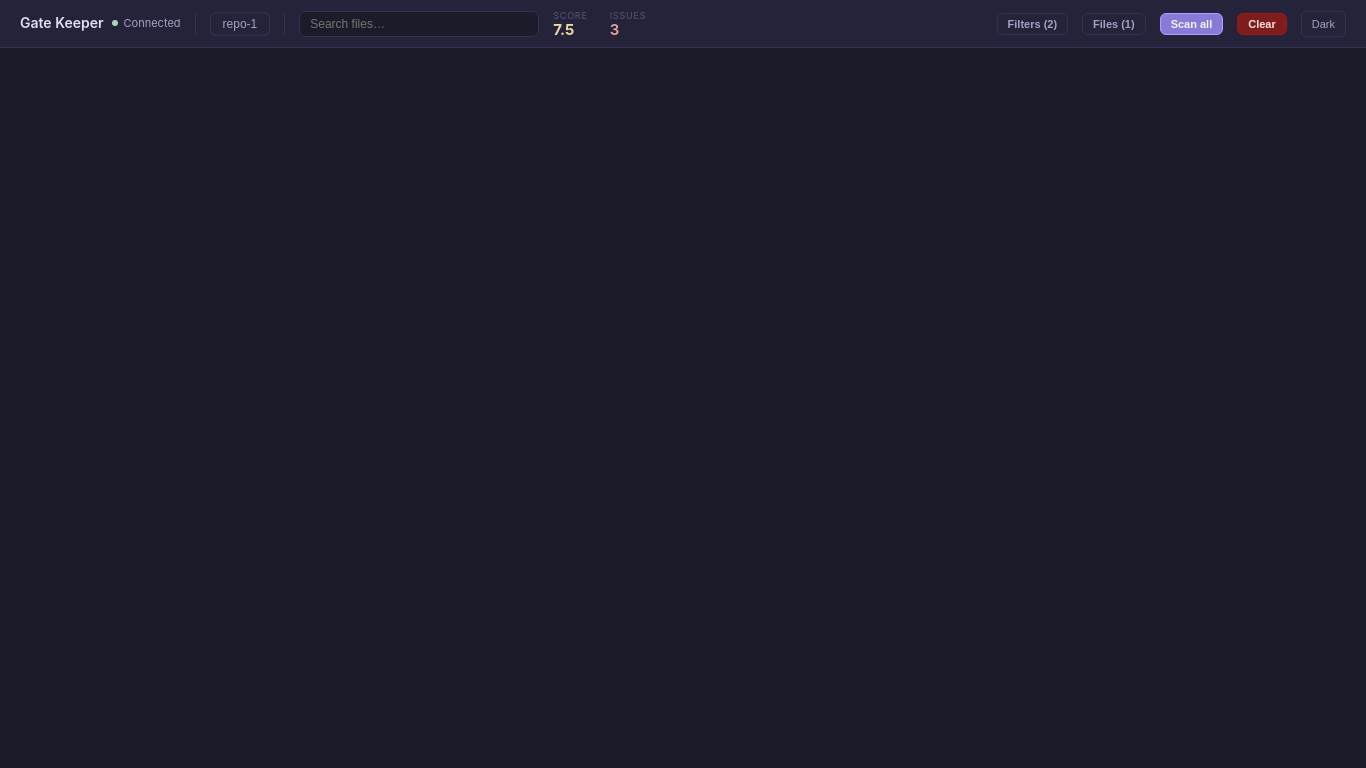
AppHeader › toggles the theme button label
Click the button titled "Toggle theme".
click(1323, 24)  # box [1301,10,1346,36]
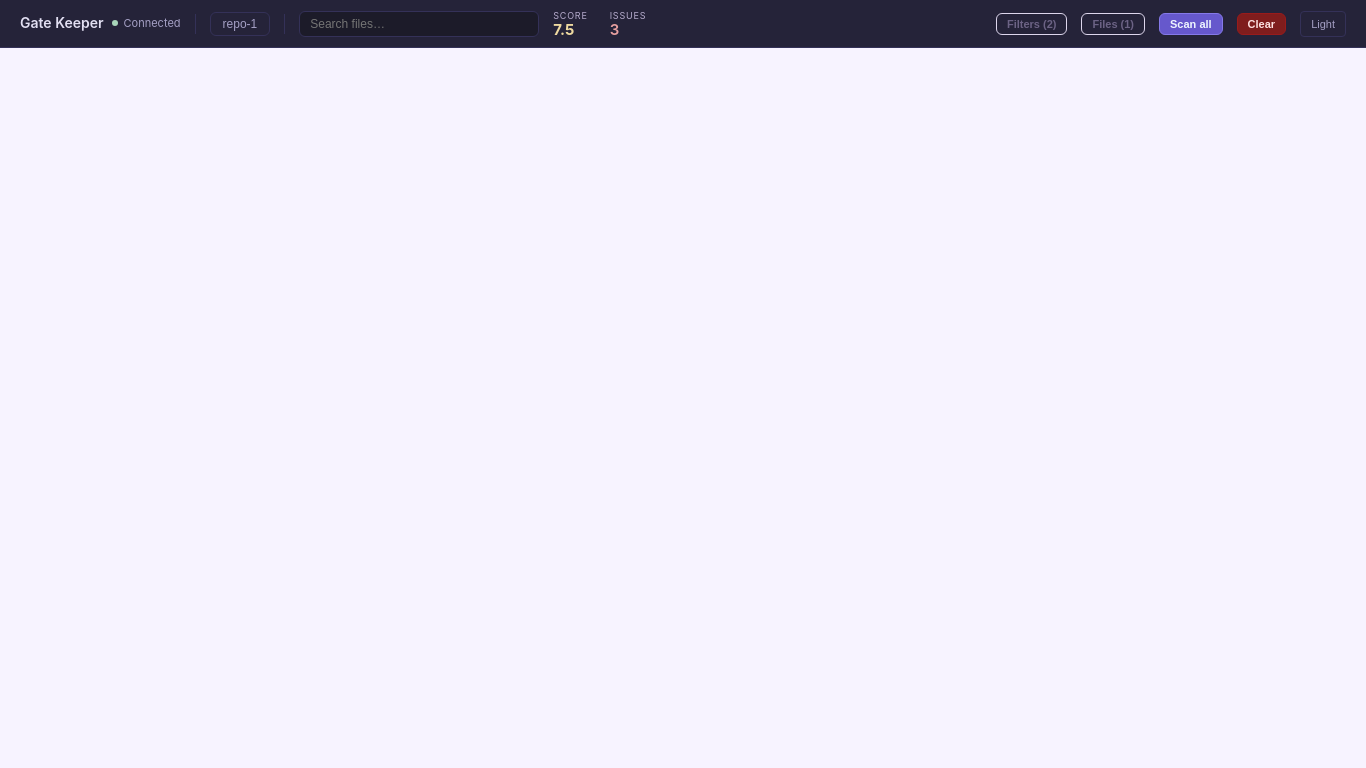
Expected: the button titled "Toggle theme" no longer shows "Dark"
